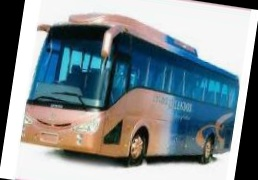bus: (19, 6, 246, 180)
